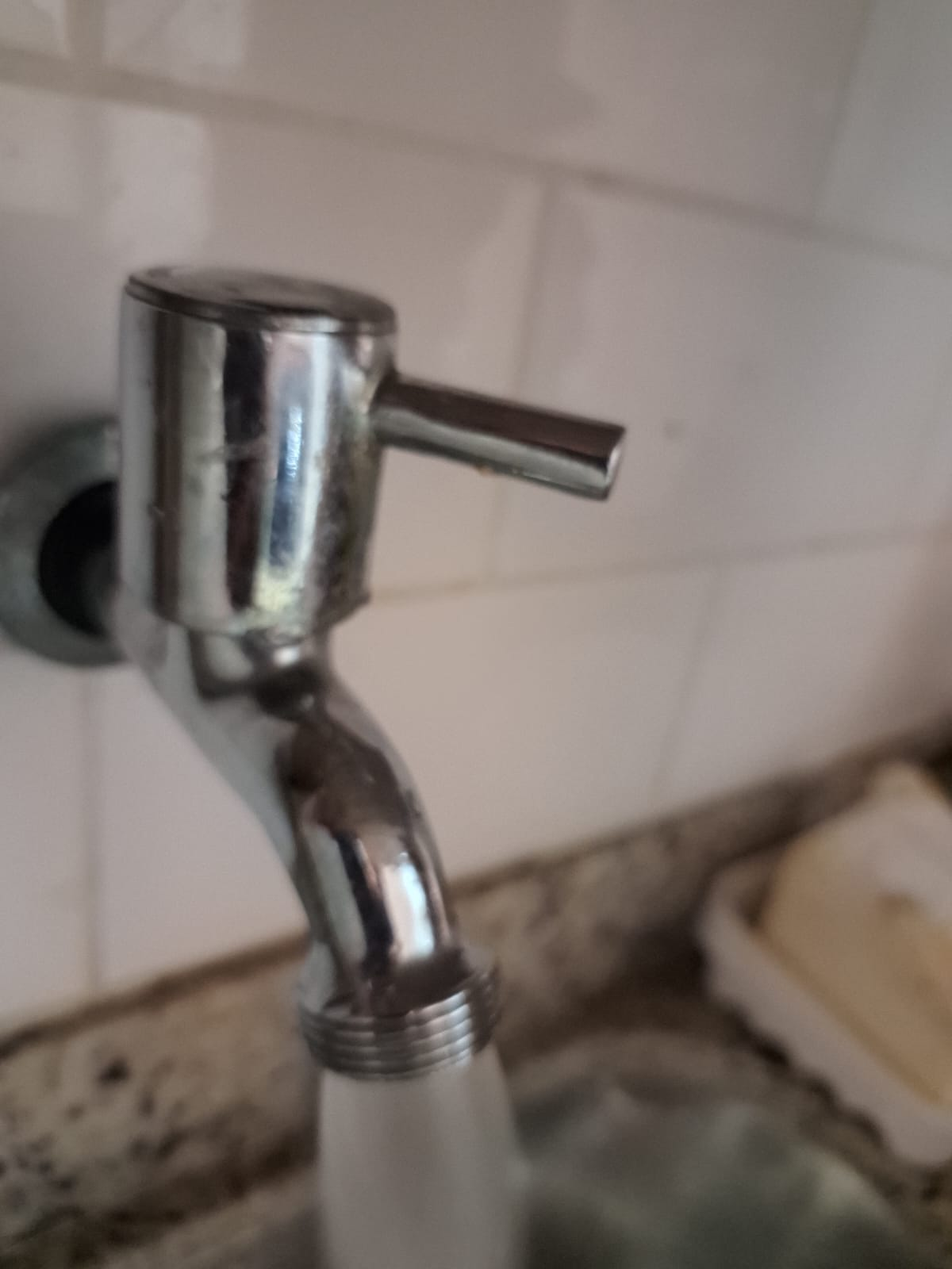torneira_aberta: (12, 244, 651, 1266)
